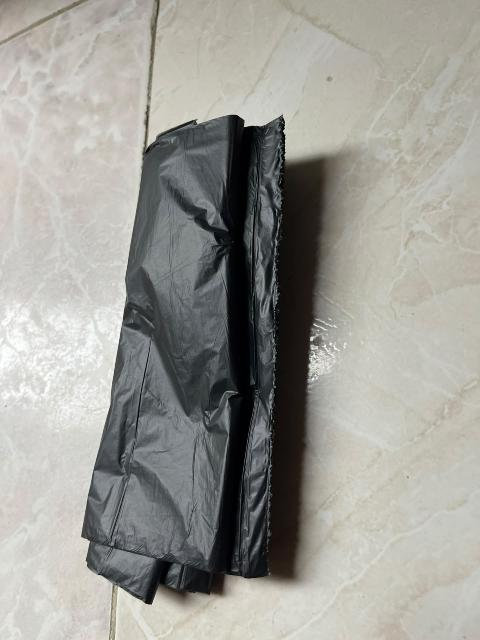LDPE: (62, 99, 337, 615)
